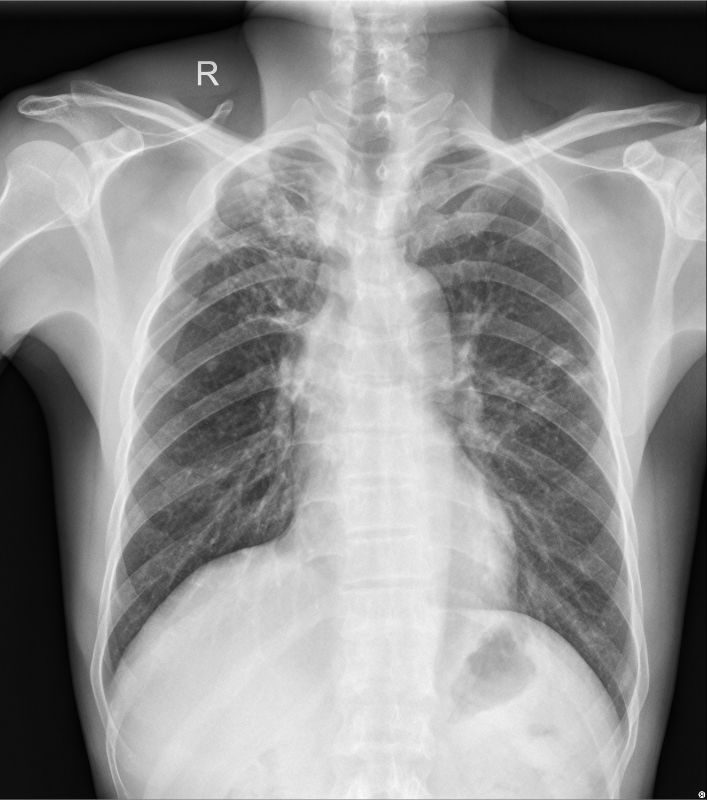Tuberculosis (TB): (211, 165, 326, 281)
